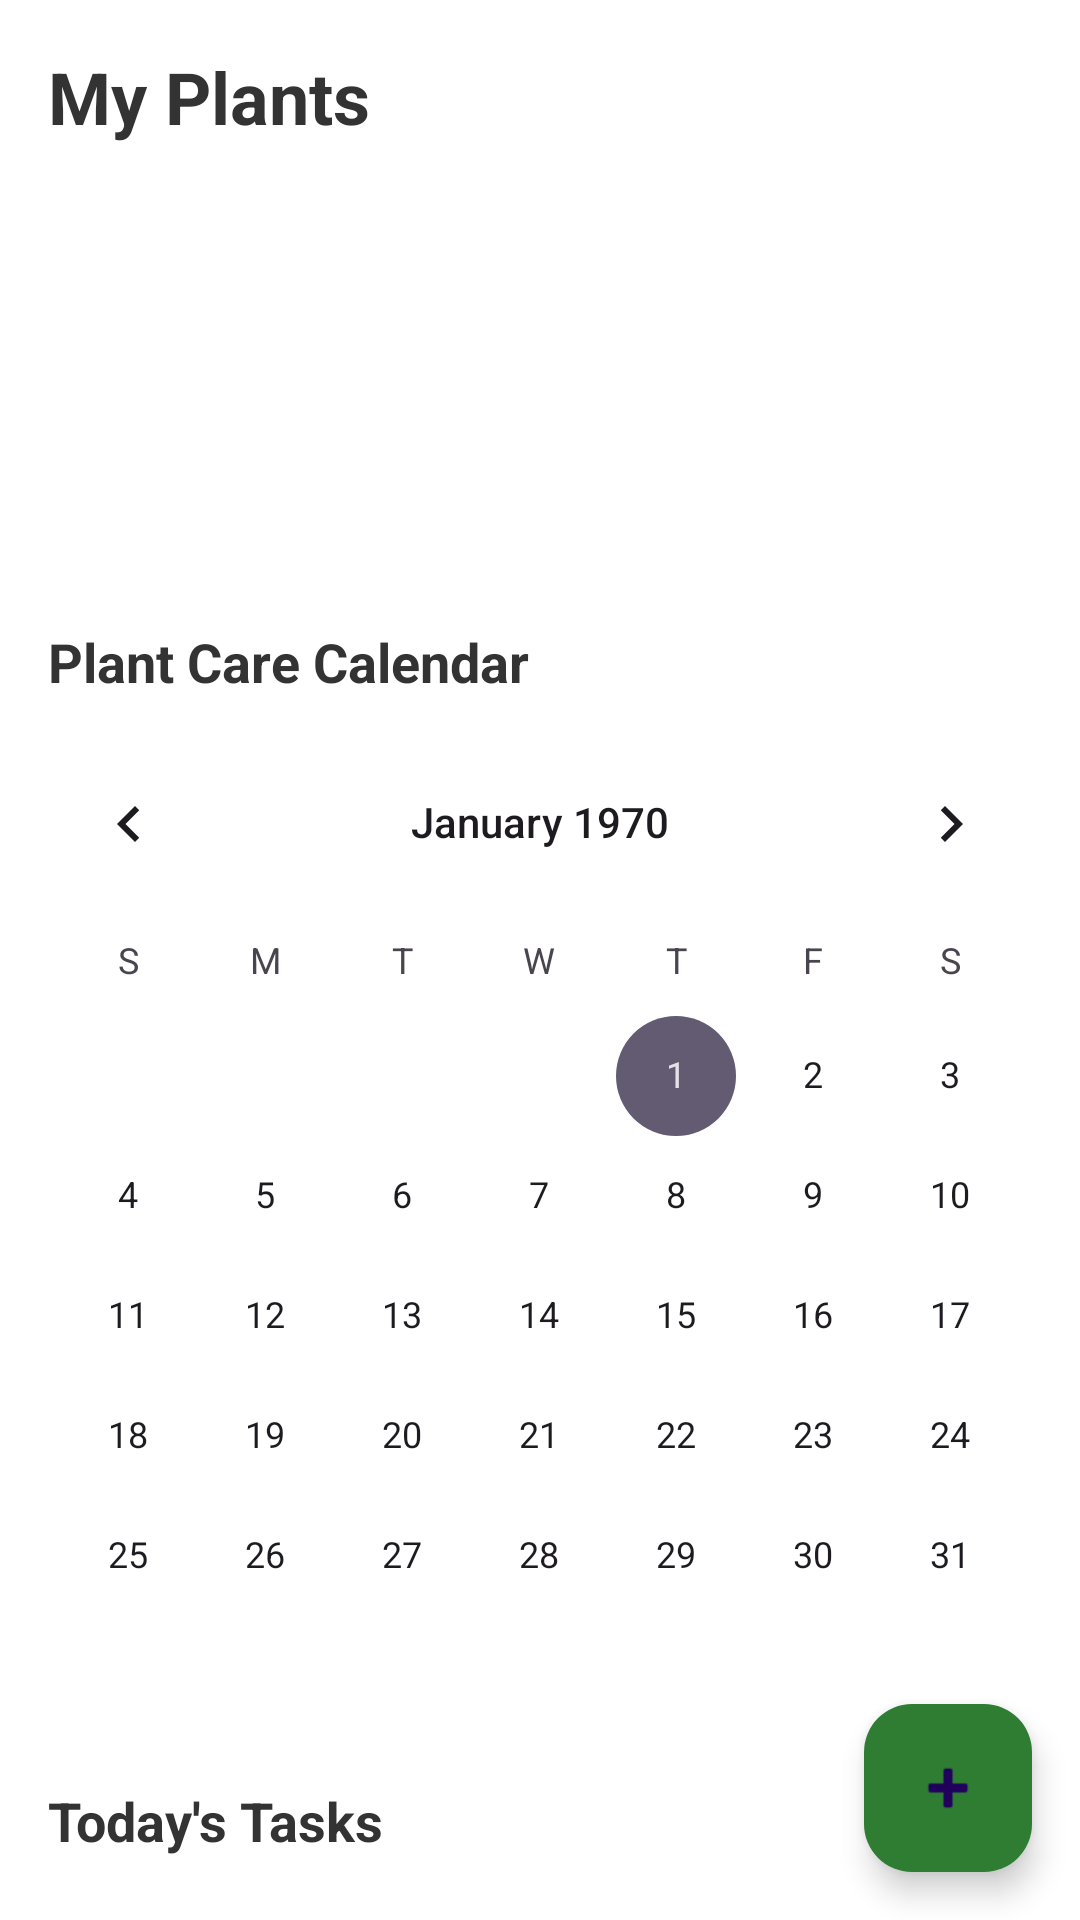

Icons on this 1080*1920 Android screen, each with its box as [x1, y1, x2, y2]:
Add plant: [864, 1704, 1032, 1872]
